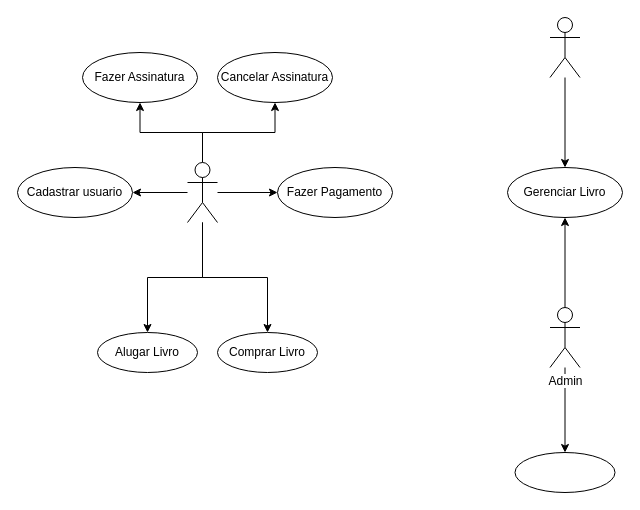
Image size: 640x510. Some labels were removed from this diagram. The shapes that lost their labels are listed below. From the top down, each one's box as (x1, y1, x2, y2) in pixels, then its label:
(549, 16, 580, 78): Funcionario
(186, 162, 218, 222): Cliente
(514, 452, 615, 492): Gerenciar Funcionario
